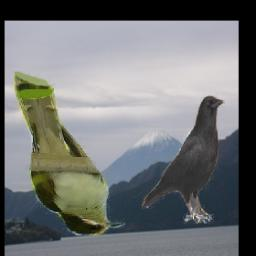Crow: (141, 92, 224, 224)
Cuckoo: (14, 73, 125, 236)
